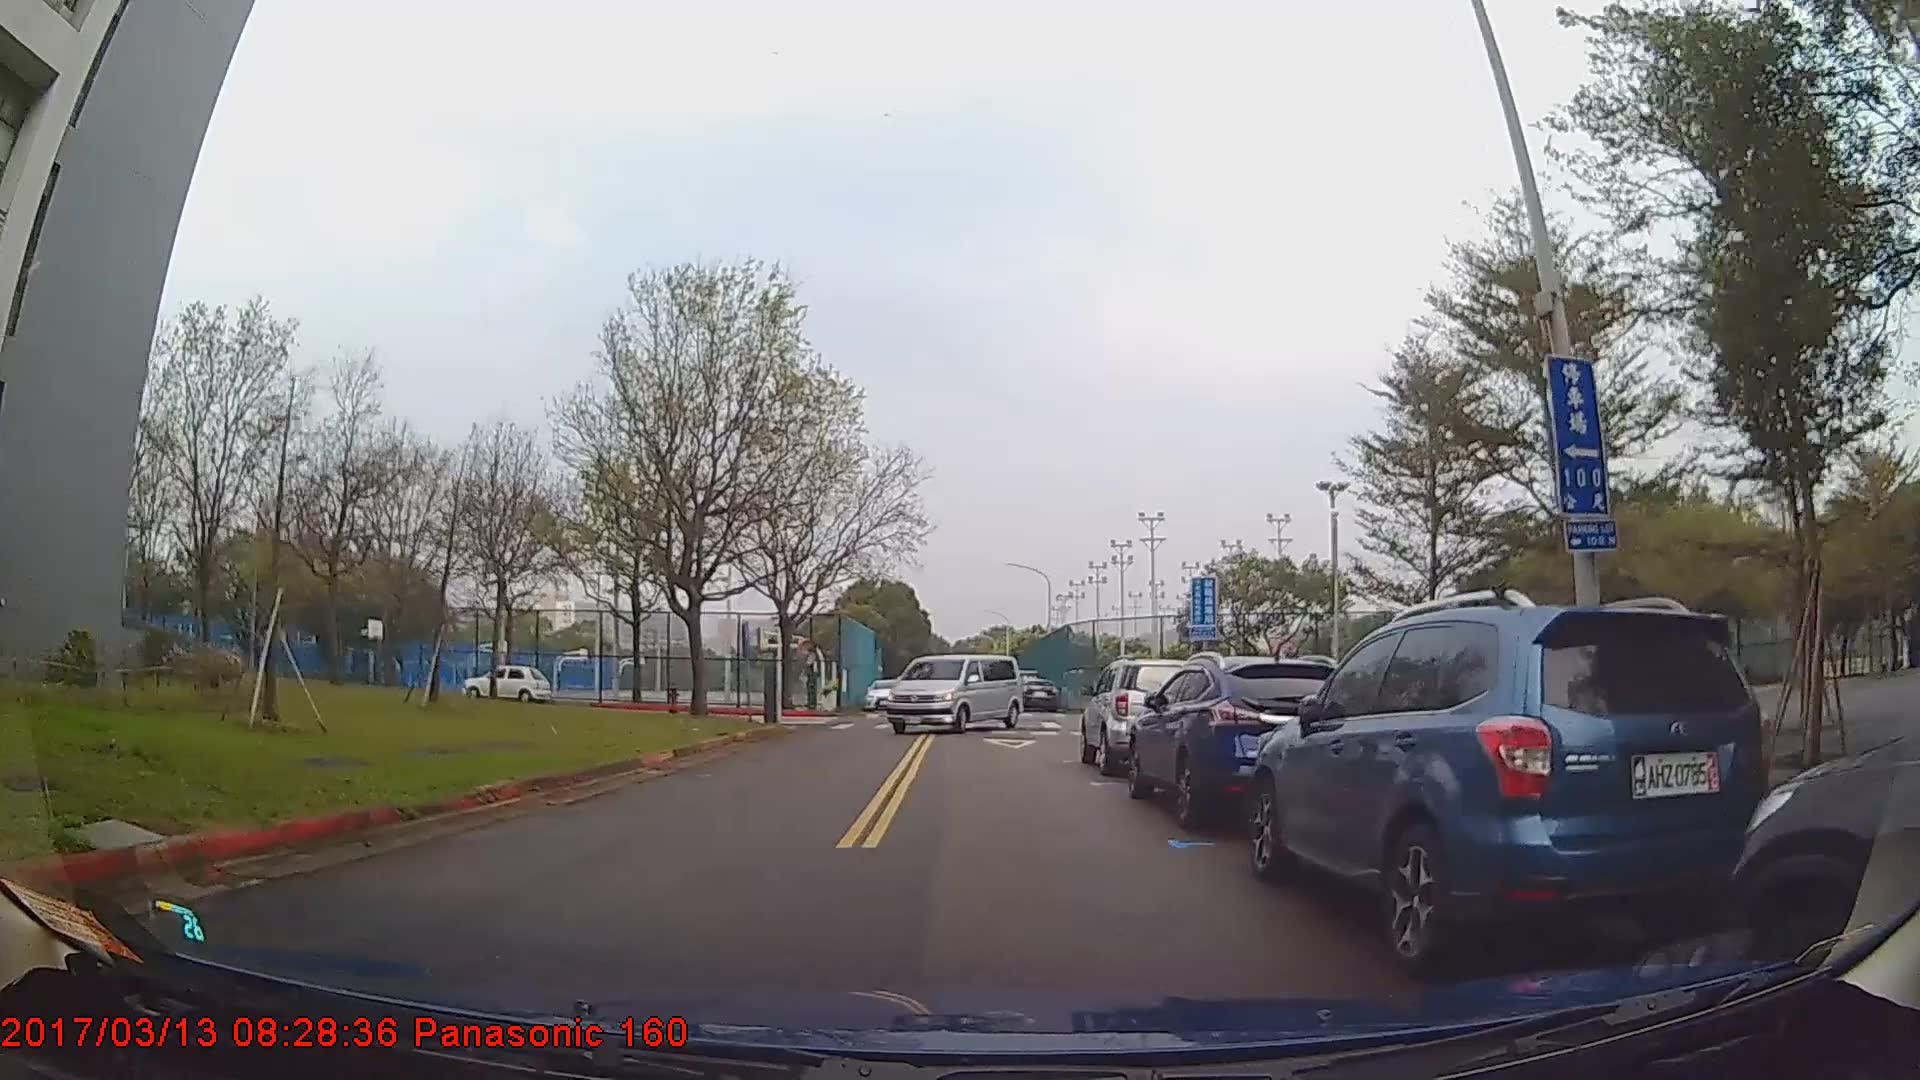vehicle: (1240, 603, 1775, 968), (1125, 655, 1353, 829), (1081, 657, 1205, 774), (881, 651, 1022, 738), (465, 662, 550, 703), (1014, 674, 1060, 709), (862, 676, 903, 709)
